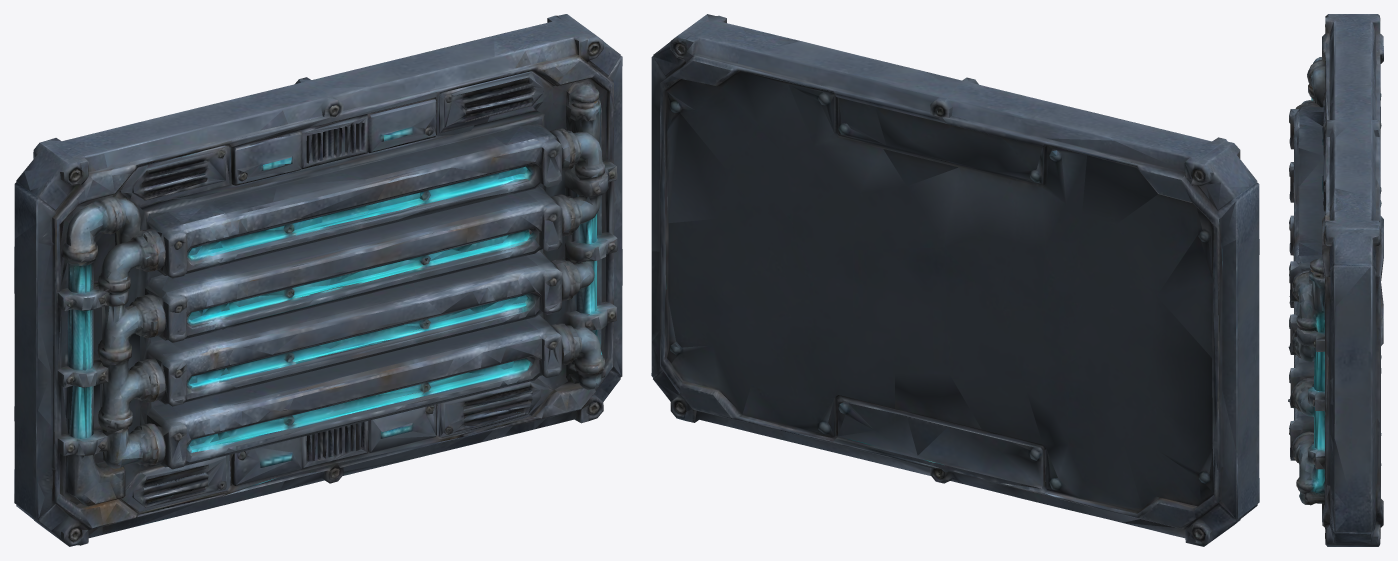
Rendered from MemoryLabCoolant.glb.
The picture shows the model from 3 angles, left to right: view 1: azimuth 30°, elevation 25°; view 2: azimuth 150°, elevation 25°; view 3: azimuth 270°, elevation 25°; orthographic projection. The views are drawn at different scales.
Visible parts, largest first — view 1: tripo_node_723a9228-f15c-40bc-8607-5d7dee548deb; view 2: tripo_node_723a9228-f15c-40bc-8607-5d7dee548deb; view 3: tripo_node_723a9228-f15c-40bc-8607-5d7dee548deb.
Boxes of the visible parts, <box> form: tripo_node_723a9228-f15c-40bc-8607-5d7dee548deb: <box>14,14,622,546</box>; tripo_node_723a9228-f15c-40bc-8607-5d7dee548deb: <box>651,14,1259,546</box>; tripo_node_723a9228-f15c-40bc-8607-5d7dee548deb: <box>1288,14,1383,546</box>.
Bounding box in the file's own units: 0.979 × 0.6109 × 0.1664.
Materials: 1 (1 with a texture image).
